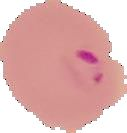parasitized: (54, 41, 110, 94)
